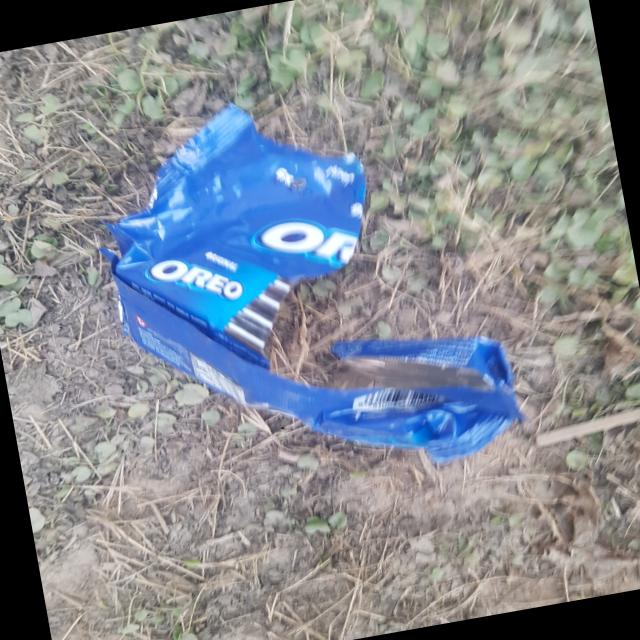electronic: (76, 61, 529, 514)
